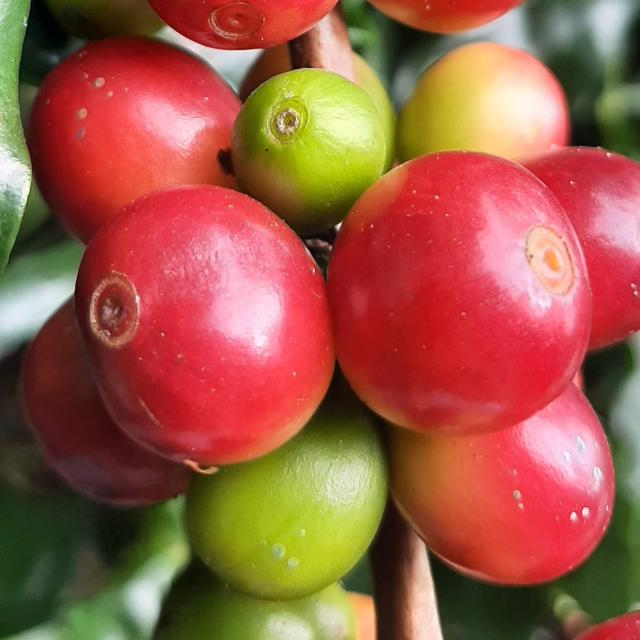green: (187, 379, 388, 601), (231, 68, 386, 236), (153, 563, 357, 640)
red: (327, 151, 593, 436), (74, 184, 334, 467), (26, 36, 241, 242), (20, 300, 190, 507), (524, 146, 640, 349), (149, 0, 338, 49), (368, 0, 523, 33)
yellow: (389, 384, 616, 586), (397, 41, 571, 161)
